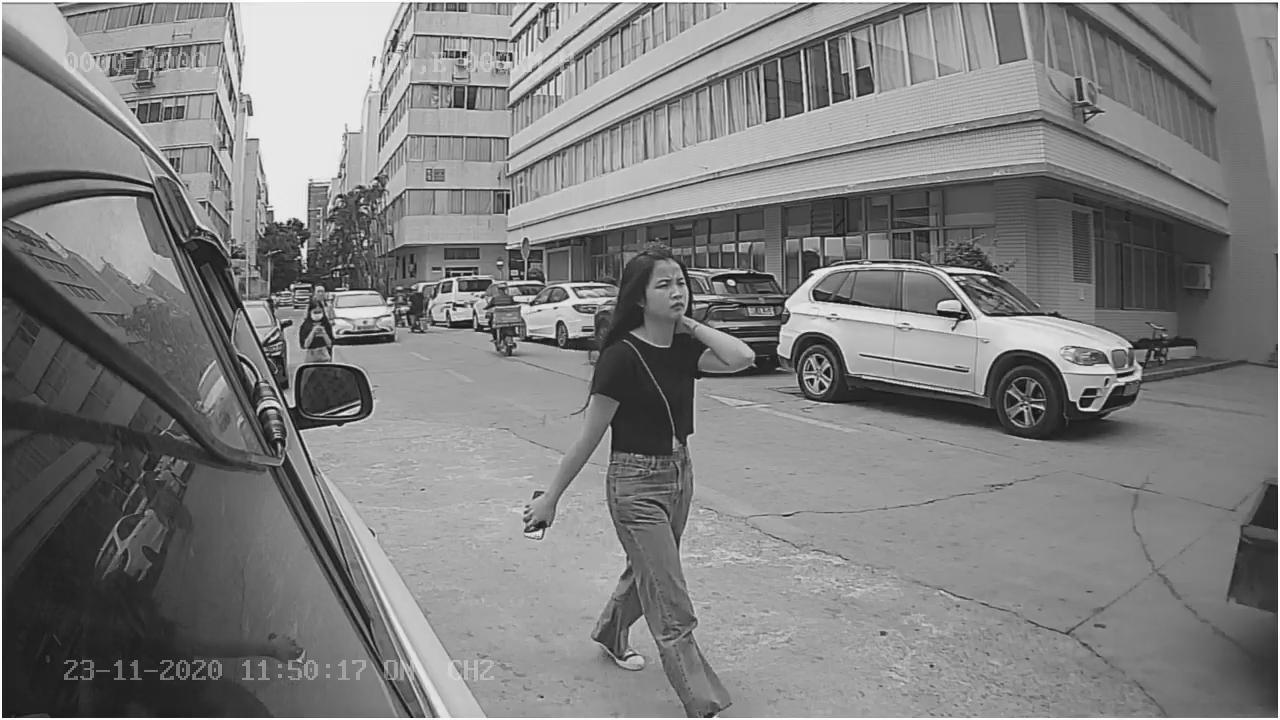person: (518, 193, 759, 540)
